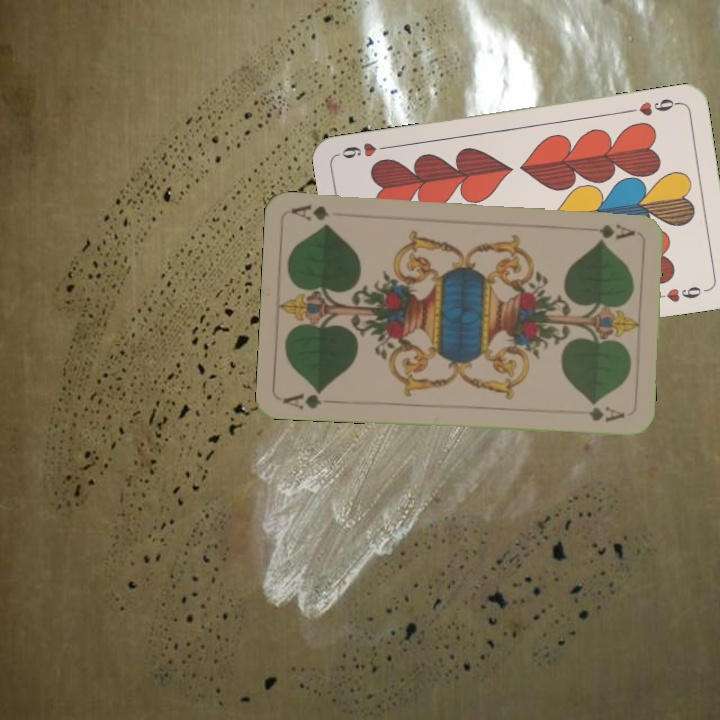GA: (579, 220, 638, 241), (280, 386, 326, 412)
H9: (623, 94, 682, 118)
